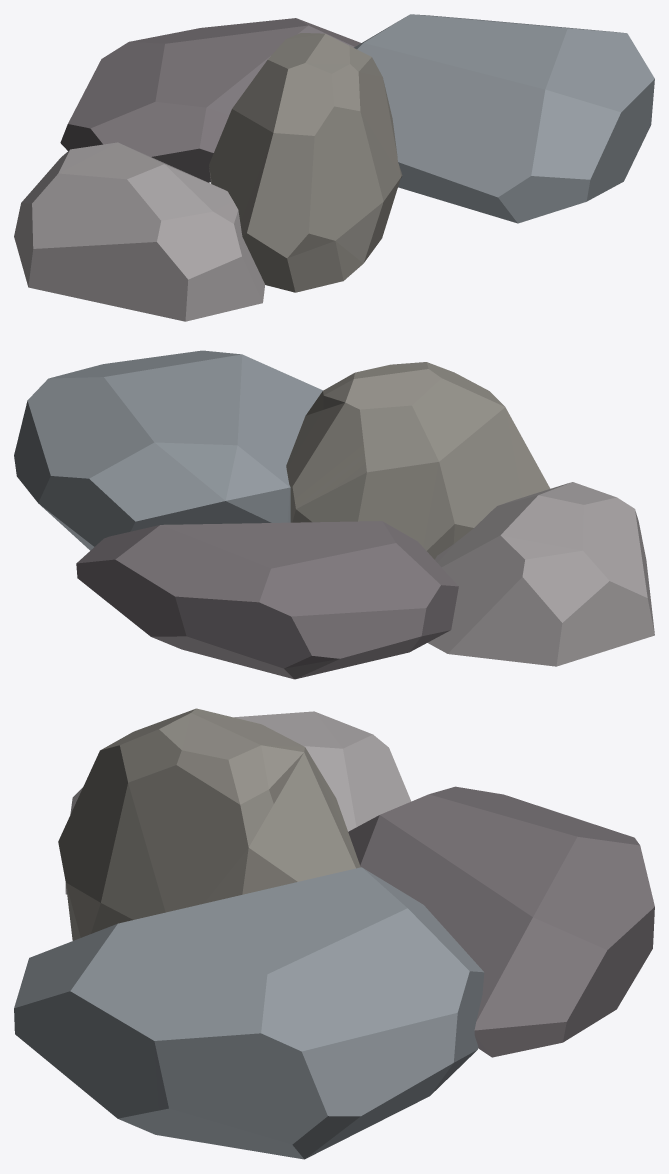
Rendered from Rocks_Round_m_03.fbx.
The picture shows the model from 3 angles, top to bottom: view 1: azimuth 30°, elevation 25°; view 2: azimuth 150°, elevation 25°; view 3: azimuth 270°, elevation 25°; orthographic projection. The views are drawn at different scales.
Visible parts, largest first — view 1: Rocks_Round_m_03; view 2: Rocks_Round_m_03; view 3: Rocks_Round_m_03.
Part boxes in pixels (box(x1,y1,x2,y2)): Rocks_Round_m_03: box(14, 14, 654, 321); Rocks_Round_m_03: box(14, 350, 654, 679); Rocks_Round_m_03: box(14, 708, 654, 1159).
Size of the model in its own units: 229 by 66.07 by 160.
